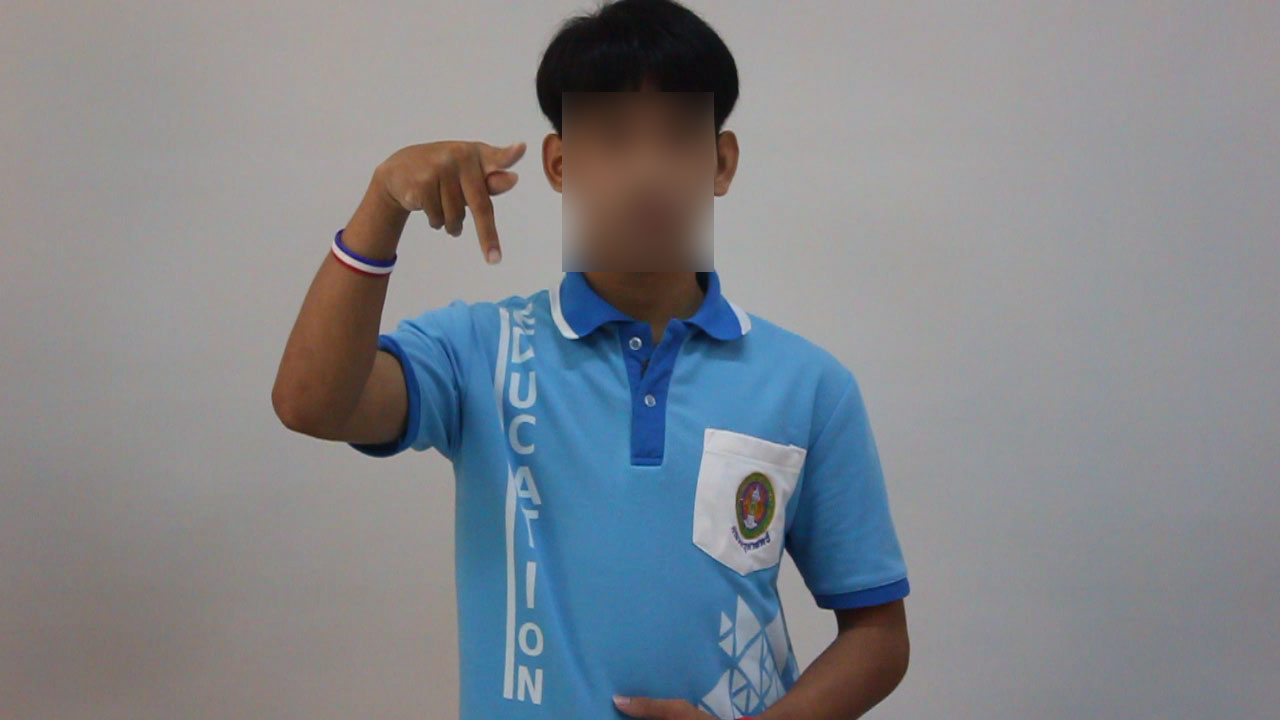por: (362, 99, 535, 276)
